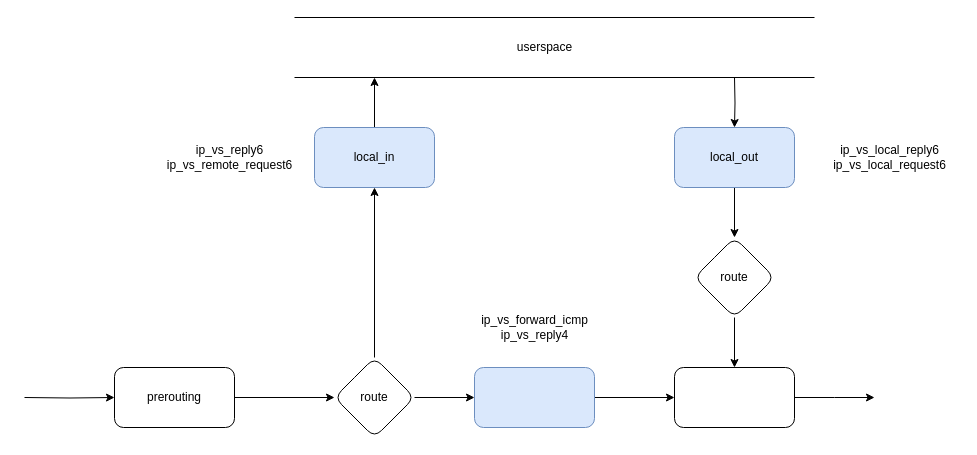
Some shapes in this 977 by 455 pixel diagram are drawn without their labels. Here are the shapes that lost their labels. From the top down, the centre of each, then its label:
At (534,397): "forward".
At (734,397): "postrouting".
